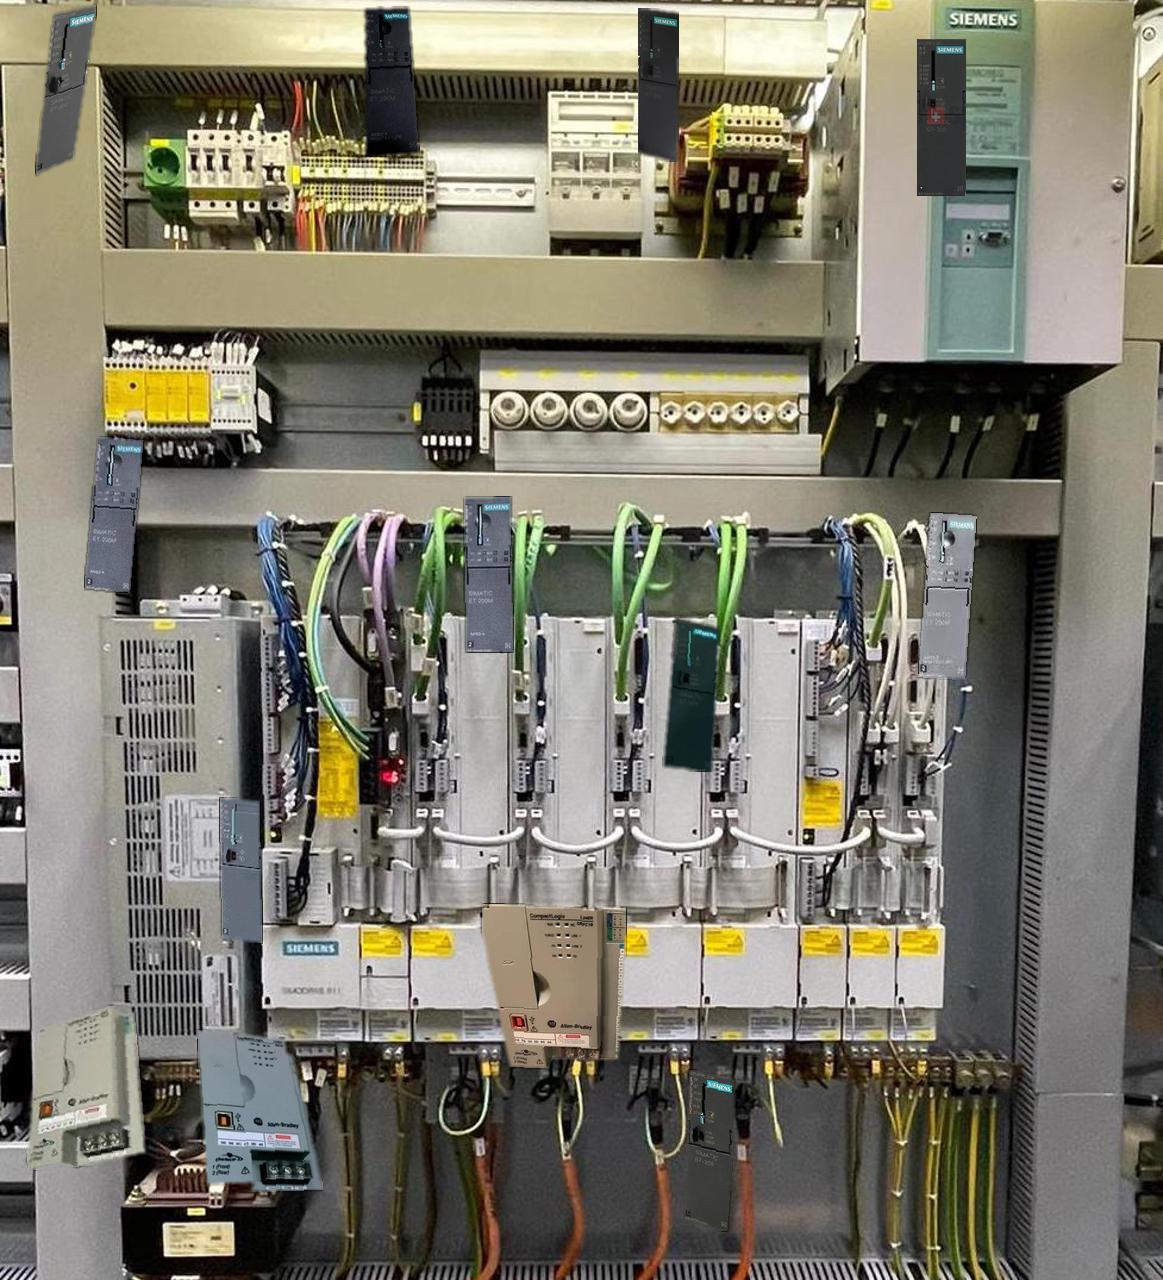AllenBradley: (482, 904, 626, 1067), (197, 1030, 322, 1190), (27, 1006, 144, 1169)
Siemens: (36, 4, 95, 174), (663, 617, 719, 770), (685, 1070, 734, 1230), (917, 39, 965, 195), (638, 8, 678, 161), (220, 798, 261, 942)
